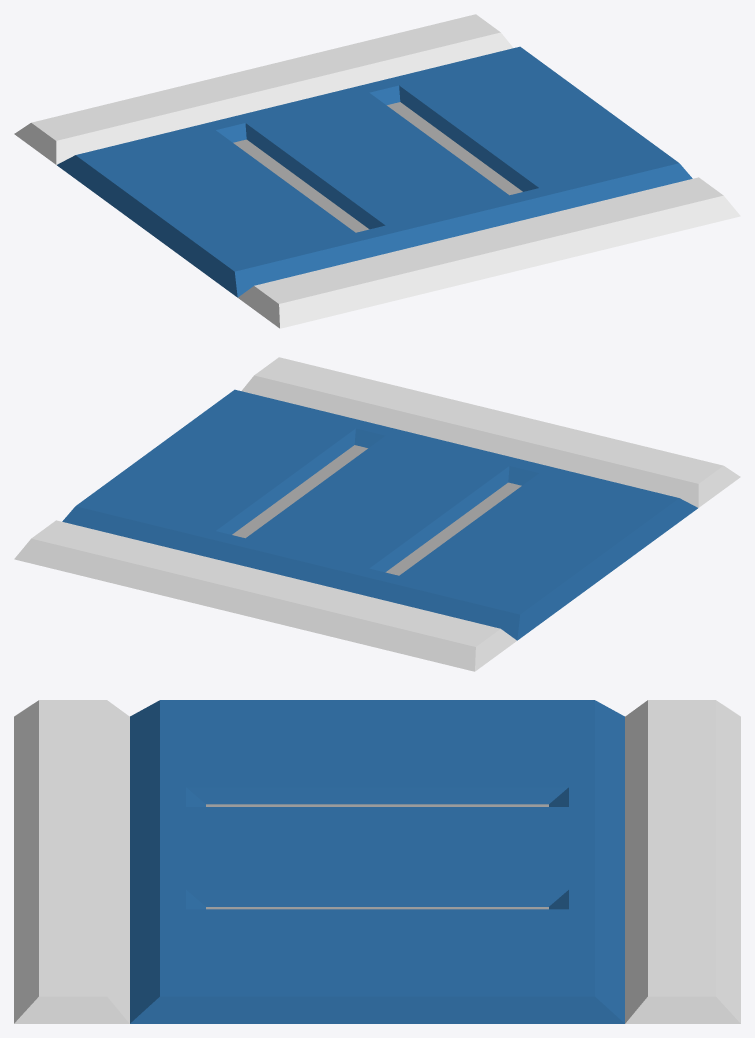
File: SM_Floor_B.fbx
3 renders of one model, top to bottom at view 1: azimuth 30°, elevation 25°; view 2: azimuth 150°, elevation 25°; view 3: azimuth 270°, elevation 25°, orthographic. The views are drawn at different scales.
Parts seen in each view (by area): view 1: SM_Floor_B; view 2: SM_Floor_B; view 3: SM_Floor_B.
Boxes of the visible parts, x1=… form: SM_Floor_B: x1=14, y1=14, x2=740, y2=328; SM_Floor_B: x1=14, y1=357, x2=740, y2=671; SM_Floor_B: x1=14, y1=700, x2=740, y2=1023.
Size of the model in its own units: 3 by 0.1 by 3.
